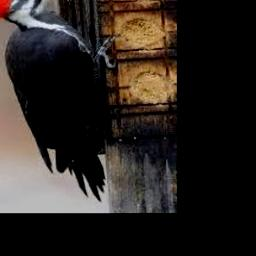Woodpecker: (0, 0, 118, 201)
